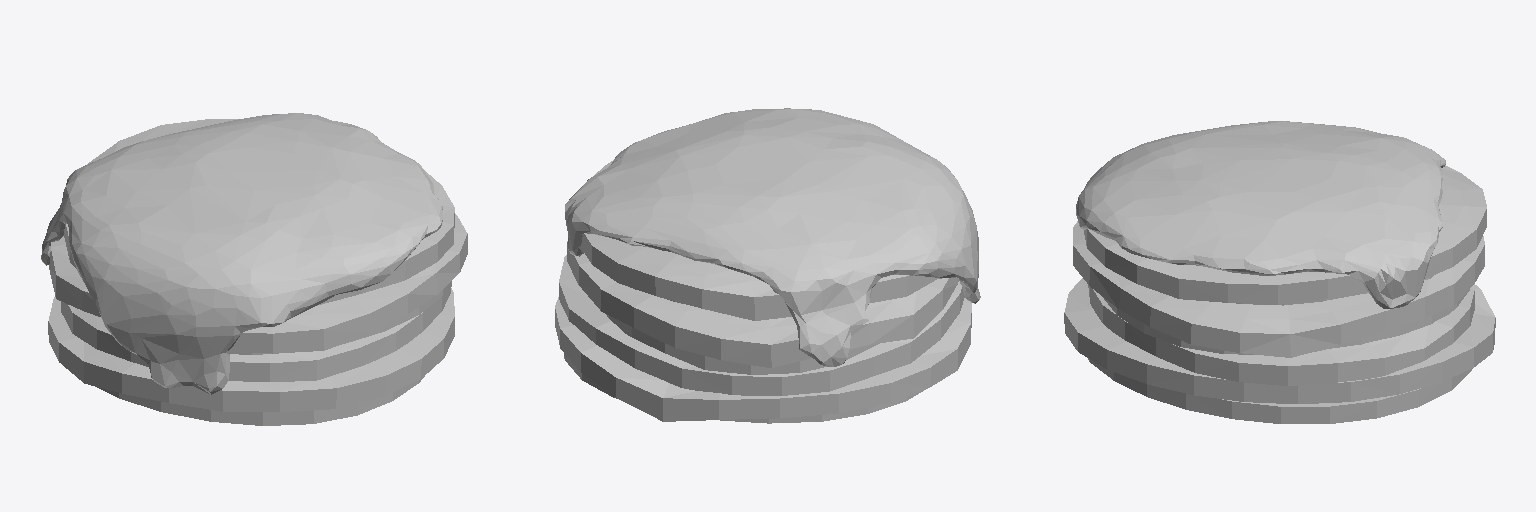
Rendered from Pancakes.obj.
The picture shows the model from 3 angles: view 1: azimuth 30°, elevation 25°; view 2: azimuth 150°, elevation 25°; view 3: azimuth 270°, elevation 25°; orthographic projection.
Parts seen in each view (by area): view 1: Cylinder; view 2: Cylinder; view 3: Cylinder.
Boxes of the visible parts, box(x1,y1,x2,y2) form: Cylinder: box(41, 113, 467, 425); Cylinder: box(555, 108, 980, 423); Cylinder: box(1064, 121, 1495, 423).
Bounding box in the file's own units: 2.21 × 1.01 × 2.28.